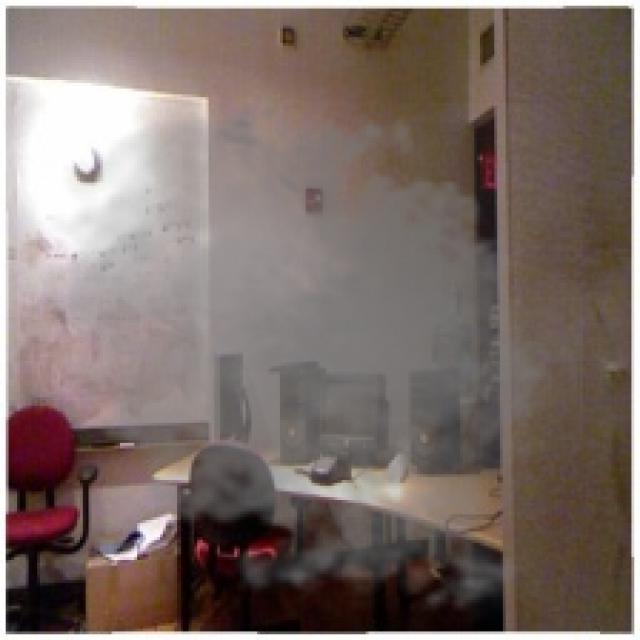smoke: (20, 91, 583, 626)
